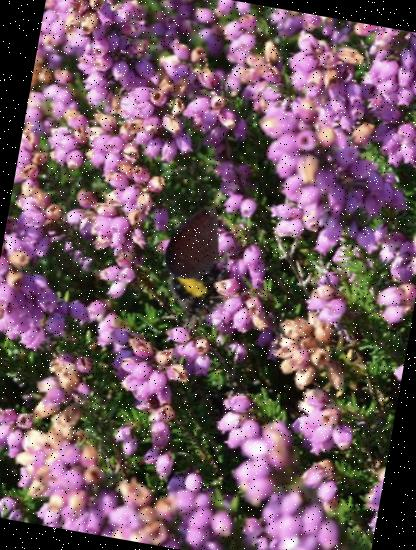Salak: (149, 195, 245, 291)
